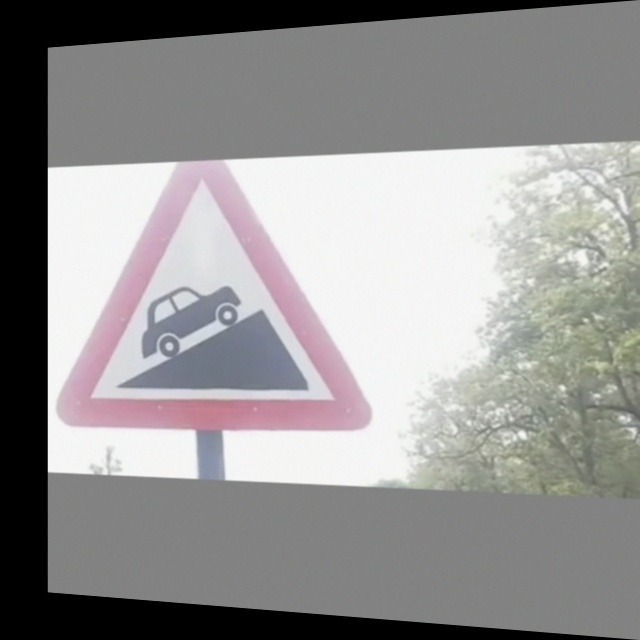Steep_Ascent: (85, 190, 349, 433)
